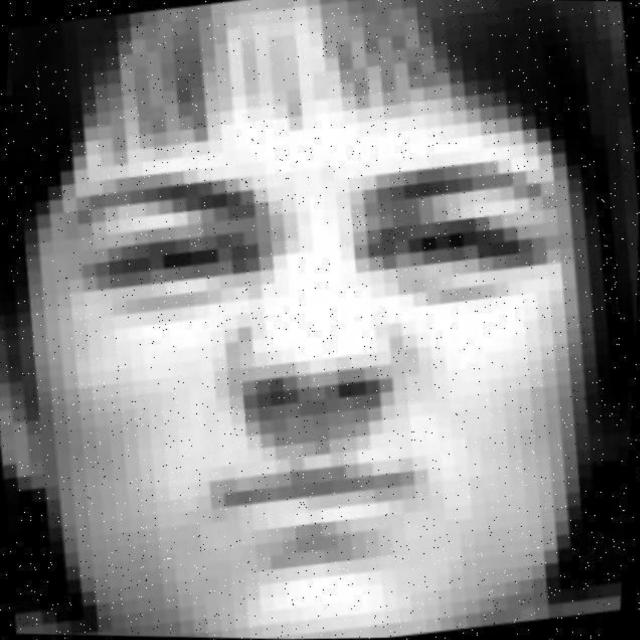Disgust: (0, 60, 634, 619)
